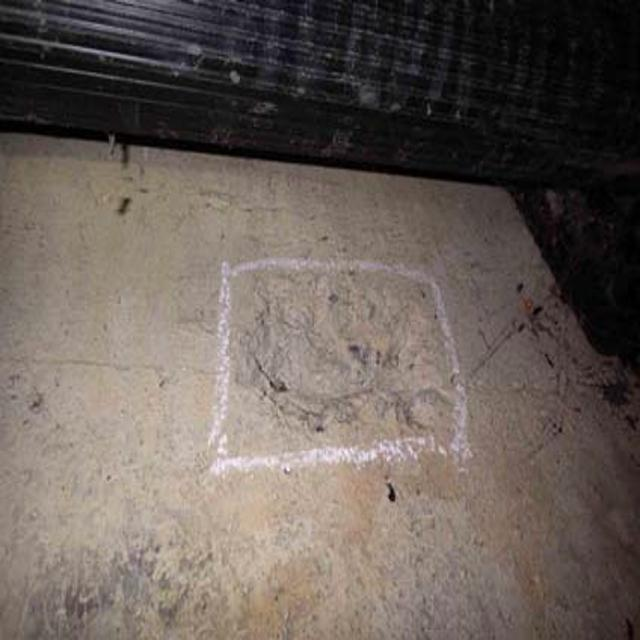spalling: (228, 260, 446, 459)
